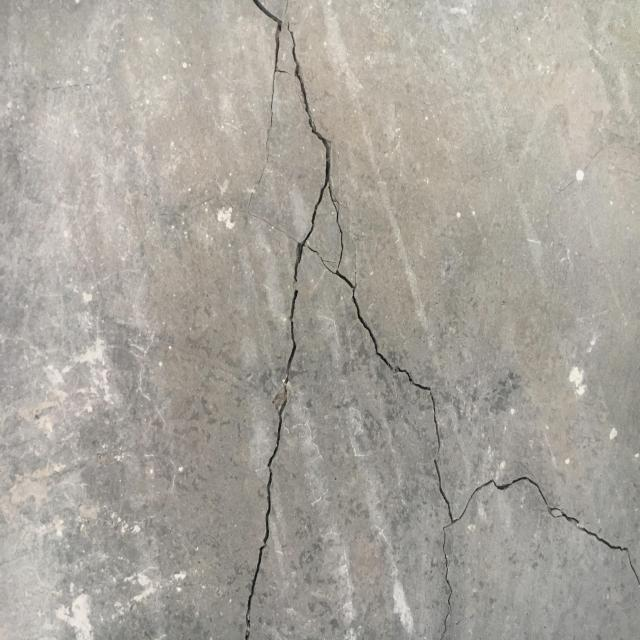SurfaceCrack: (199, 0, 480, 639), (444, 456, 639, 640)
